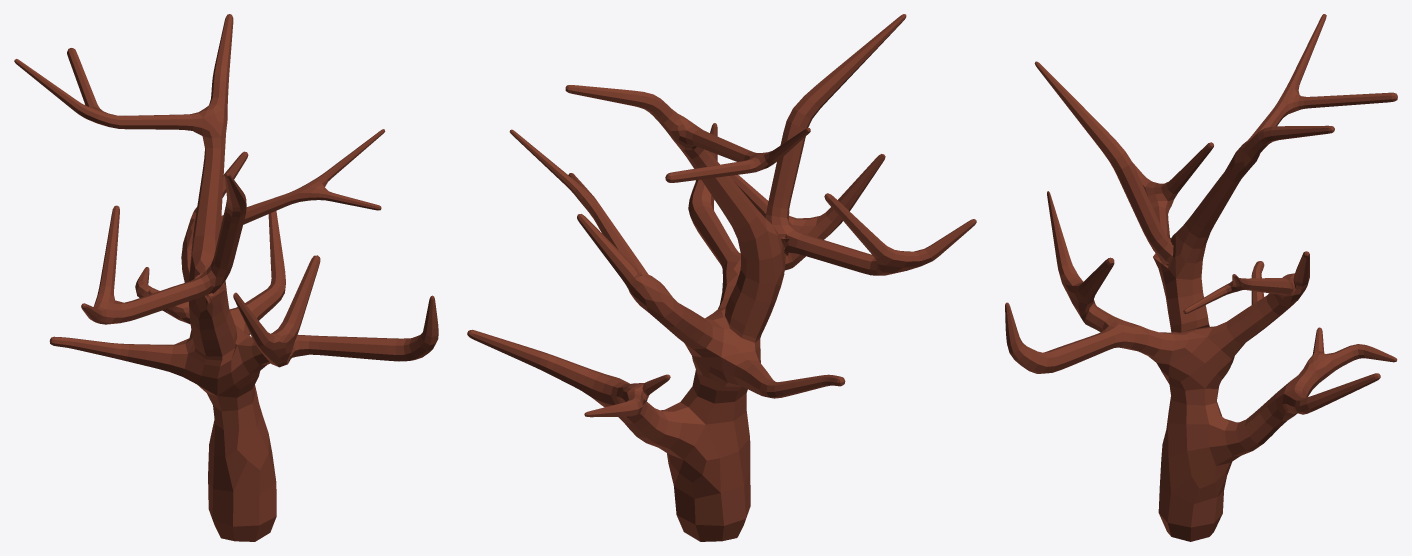
The model's file is Derevo_2.fbx.
The picture shows the model from 3 angles, left to right: view 1: azimuth 30°, elevation 25°; view 2: azimuth 150°, elevation 25°; view 3: azimuth 270°, elevation 25°; orthographic projection. The views are drawn at different scales.
Visible parts, largest first — view 1: Плоскость.002; view 2: Плоскость.002; view 3: Плоскость.002.
Part boxes in pixels (x1,y1,x2,y2): Плоскость.002: (14, 14, 438, 541); Плоскость.002: (467, 14, 976, 541); Плоскость.002: (1005, 14, 1397, 541).
Bounding box in the file's own units: 334 × 408 × 323.
